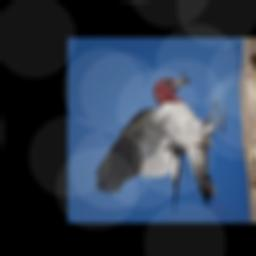Woodpecker: (94, 73, 226, 212)
